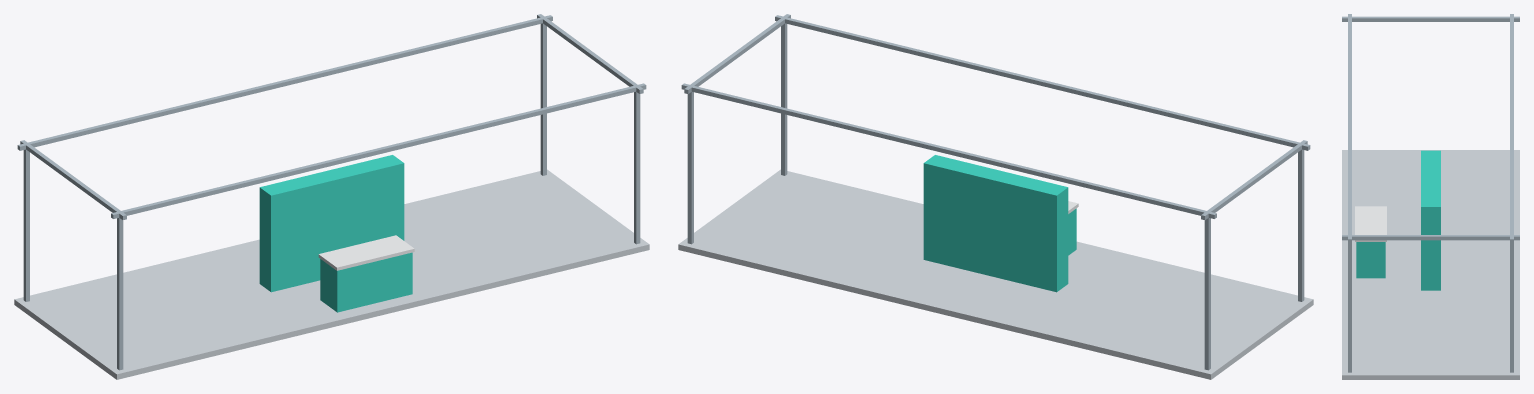
3 renders of one model, left to right at view 1: azimuth 30°, elevation 25°; view 2: azimuth 150°, elevation 25°; view 3: azimuth 270°, elevation 25°, orthographic. The views are drawn at different scales.
Visible parts, largest first — view 1: Exhibition Booth Concept; view 2: Exhibition Booth Concept; view 3: Exhibition Booth Concept.
Part boxes in pixels (x1,y1,x2,y2): Exhibition Booth Concept: [14, 14, 649, 379]; Exhibition Booth Concept: [678, 14, 1313, 379]; Exhibition Booth Concept: [1342, 14, 1519, 379].
Bounding box in the file's own units: 12 × 3.49 × 4.
